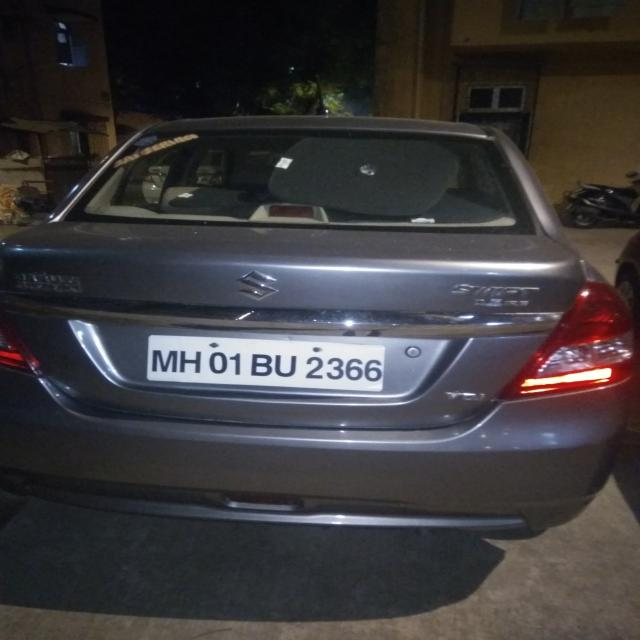Number-Plate: (154, 336, 387, 387)
